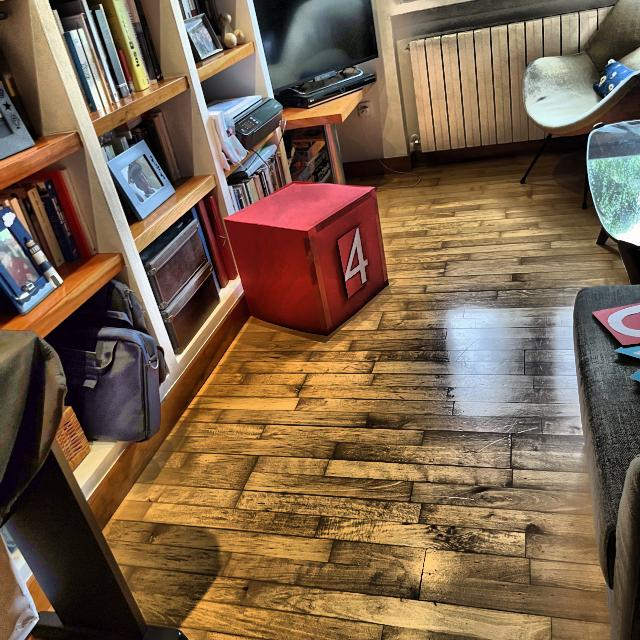four: (344, 229, 371, 286)
red box: (224, 182, 389, 337)
